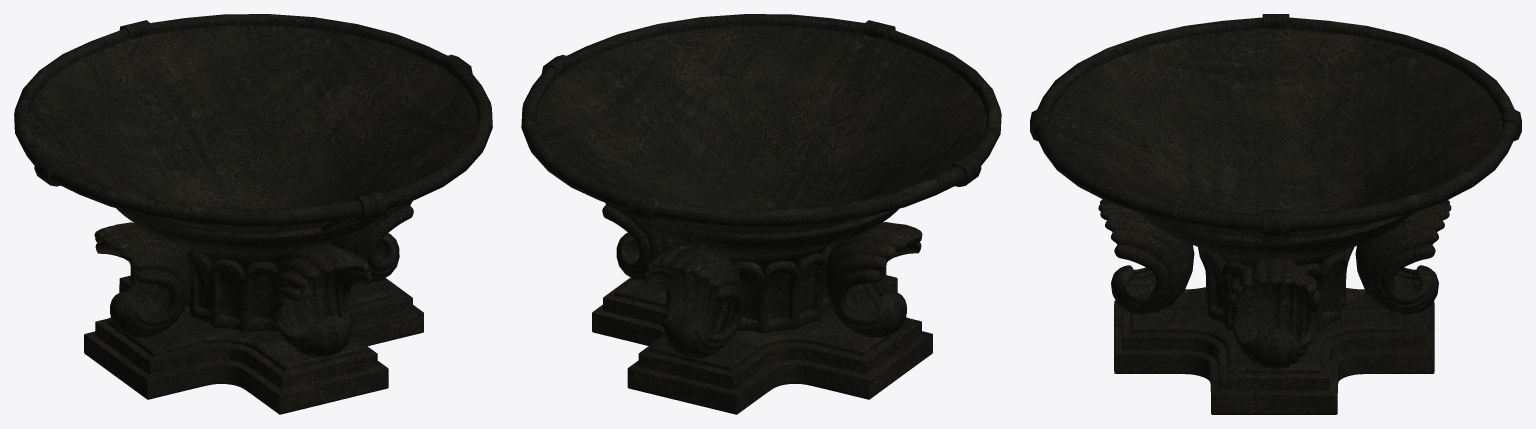
The model's file is 古文物鼎.fbx.
The picture shows the model from 3 angles, left to right: view 1: azimuth 30°, elevation 25°; view 2: azimuth 150°, elevation 25°; view 3: azimuth 270°, elevation 25°; orthographic projection.
Visible parts, largest first — view 1: 3DXY_geometry_001; view 2: 3DXY_geometry_001; view 3: 3DXY_geometry_001.
Boxes of the visible parts, <box> form: 3DXY_geometry_001: <box>14,14,492,414</box>; 3DXY_geometry_001: <box>521,14,1001,414</box>; 3DXY_geometry_001: <box>1030,14,1521,414</box>.
Size of the model in its own units: 379 by 199 by 379.
1 material, 1 textured.
